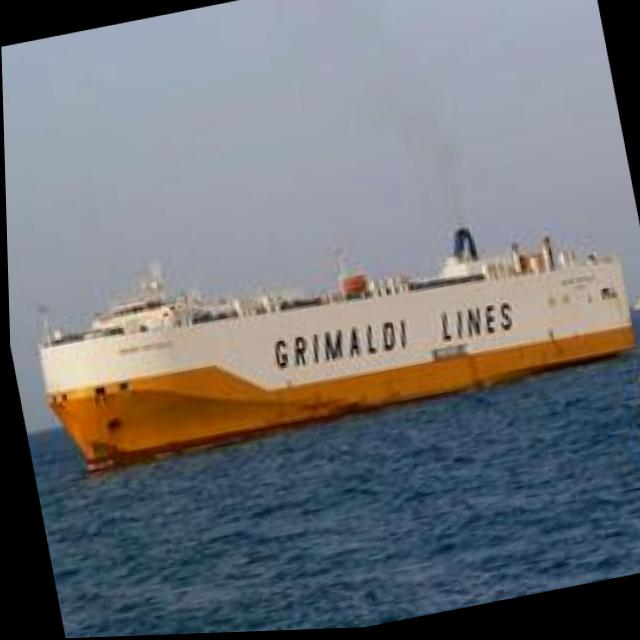ship2: (35, 232, 636, 478)
